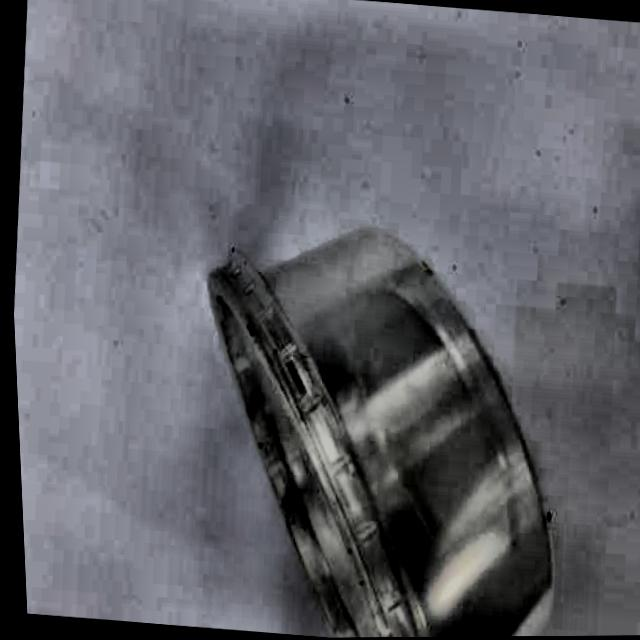Plastic: (161, 181, 590, 639)
